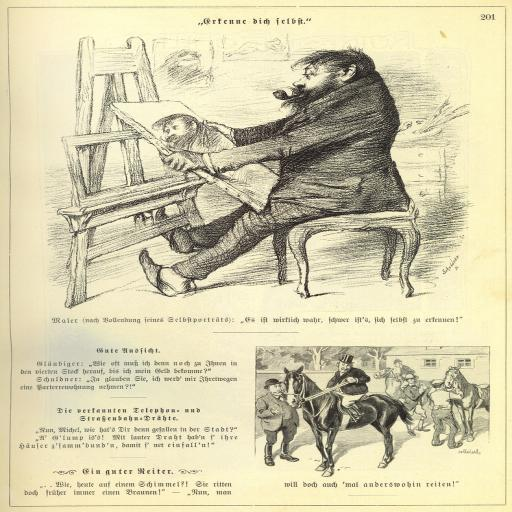horse: (284, 365, 408, 479), (441, 364, 489, 444)
